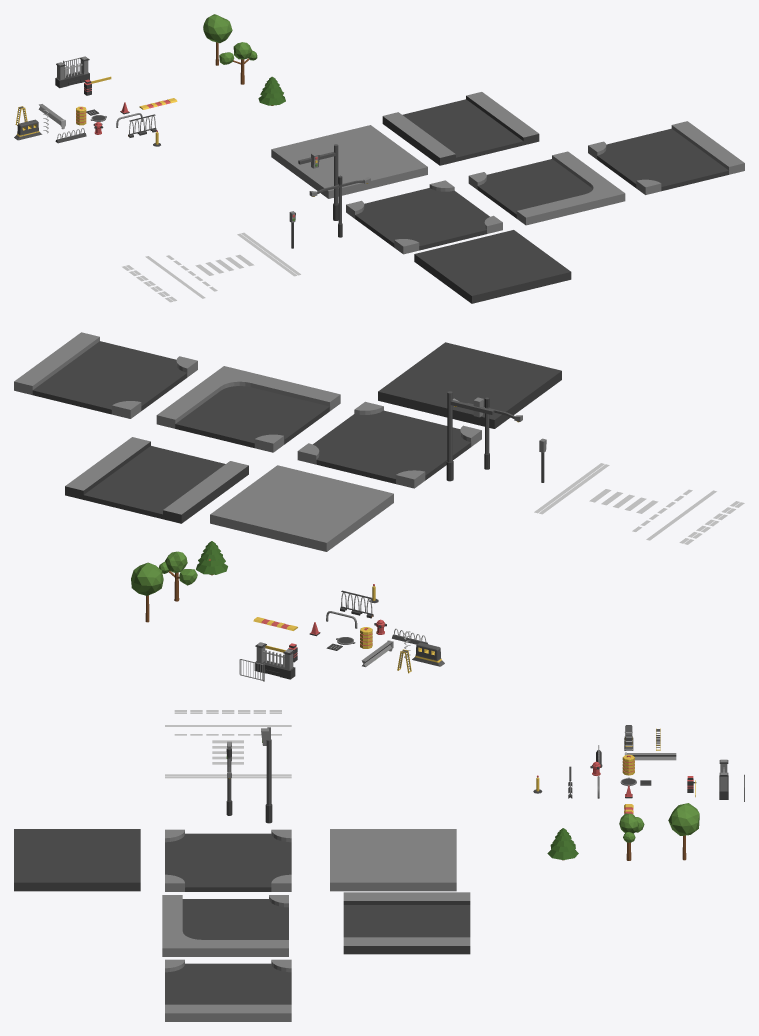
File: low_poly_city_props__roads_-_game_ready_asset.glb
The picture shows the model from 3 angles, top to bottom: view 1: azimuth 30°, elevation 25°; view 2: azimuth 150°, elevation 25°; view 3: azimuth 270°, elevation 25°; orthographic projection. The views are drawn at different scales.
Parts seen in each view (by area): view 1: SolidRoad1, Road, Crossroads_L, Crossroads_T, Crossroads, SolidRoad2, Traffic_Barrier2, Tree2, Traffic_Lights1, Tree1, Tree3, Lights; view 2: Crossroads_L, SolidRoad2, Road, Crossroads_T, SolidRoad1, Crossroads, Traffic_Barrier2, Traffic_Lights1, Tree2, Tree1, Tree3, Two_Solid_Lines; view 3: Road, SolidRoad1, SolidRoad2, Crossroads, Crossroads_T, Crossroads_L, Tree2, Traffic_Lights1, Tree3, Tree1, Two_Solid_Lines.
Part boxes in pixels (x1,y1,x2,y2): SolidRoad1: [414, 230, 571, 303]; Road: [382, 92, 539, 165]; Crossroads_L: [468, 151, 625, 225]; Crossroads_T: [588, 121, 744, 194]; Crossroads: [346, 180, 502, 254]; SolidRoad2: [271, 125, 427, 198]; Traffic_Barrier2: [55, 56, 89, 88]; Tree2: [203, 14, 232, 65]; Traffic_Lights1: [298, 144, 338, 220]; Tree1: [219, 42, 257, 84]; Tree3: [258, 76, 285, 105]; Lights: [309, 175, 370, 237]; Crossroads_L: [156, 366, 340, 452]; SolidRoad2: [210, 465, 393, 551]; Road: [65, 437, 248, 523]; Crossroads_T: [14, 332, 197, 418]; SolidRoad1: [378, 342, 561, 428]; Crossroads: [297, 401, 481, 488]; Traffic_Barrier2: [254, 642, 295, 679]; Traffic_Lights1: [446, 391, 494, 481]; Tree2: [131, 562, 163, 622]; Tree1: [159, 551, 197, 601]; Tree3: [196, 541, 227, 575]; Two_Solid_Lines: [534, 463, 609, 514]; Road: [343, 892, 470, 954]; SolidRoad1: [14, 829, 140, 891]; SolidRoad2: [330, 829, 456, 891]; Crossroads: [165, 829, 291, 891]; Crossroads_T: [165, 959, 291, 1021]; Crossroads_L: [162, 895, 288, 956]; Tree2: [668, 803, 699, 860]; Traffic_Lights1: [261, 727, 272, 823]; Tree3: [547, 828, 578, 860]; Tree1: [619, 813, 644, 860]; Two_Solid_Lines: [165, 774, 291, 778].
Size of the model in its own units: 30.16 by 4.02 by 30.35.
2 materials, 2 textured.
